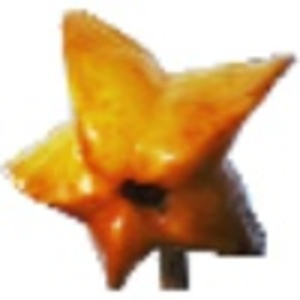carambola: (1, 7, 297, 293)
